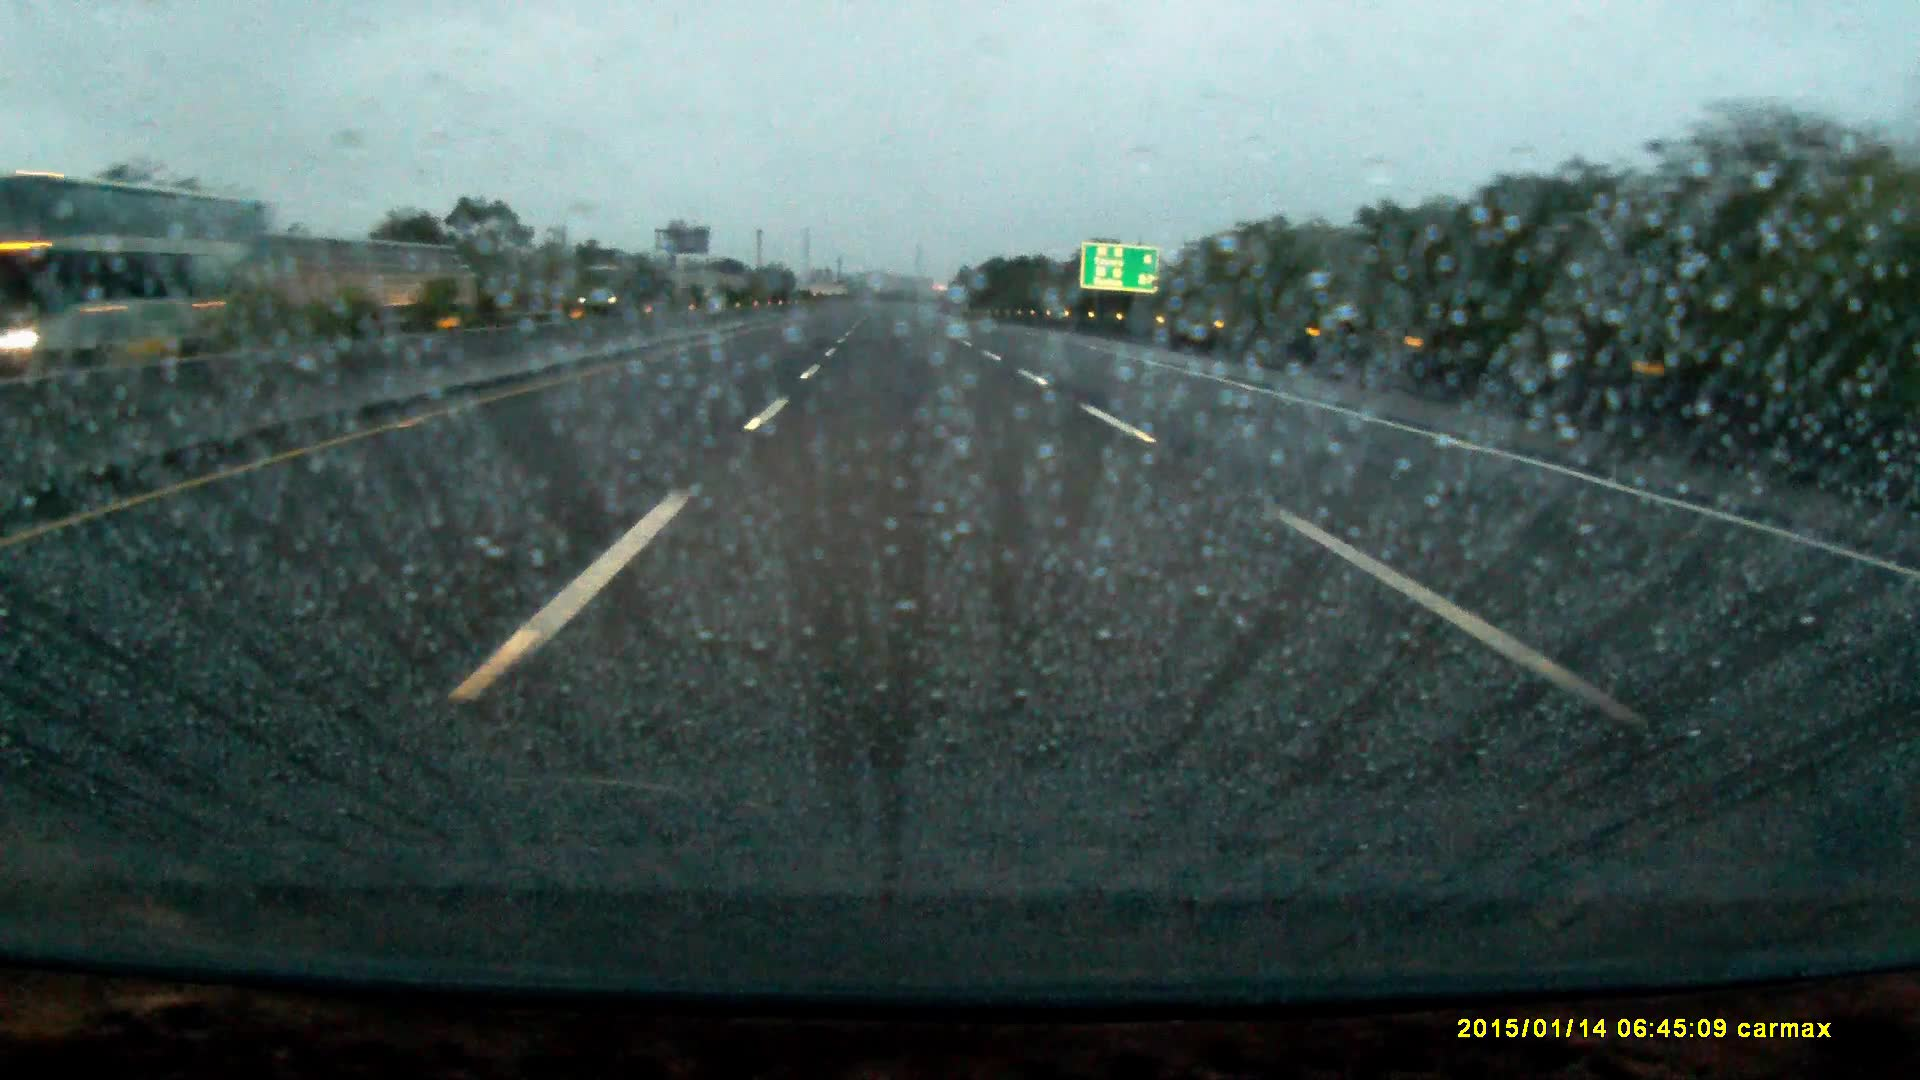vehicle: (1, 173, 266, 353), (582, 265, 655, 307)
